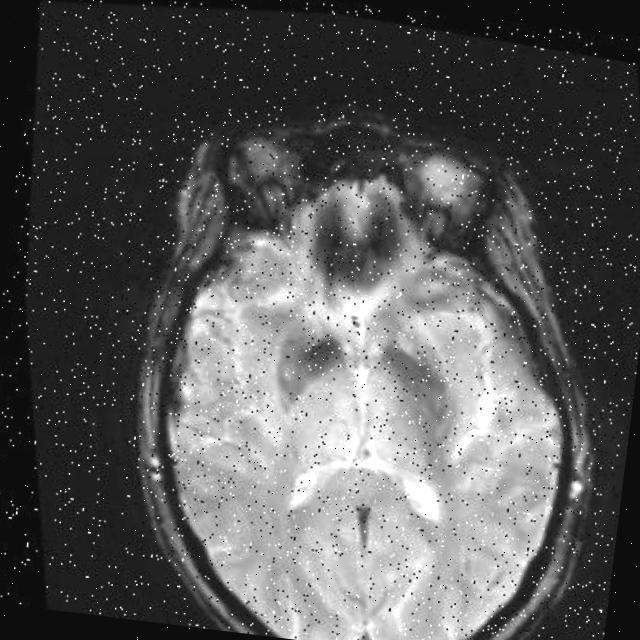LMCI: (292, 168, 420, 309)
MCI: (351, 315, 453, 443), (248, 310, 342, 414)
